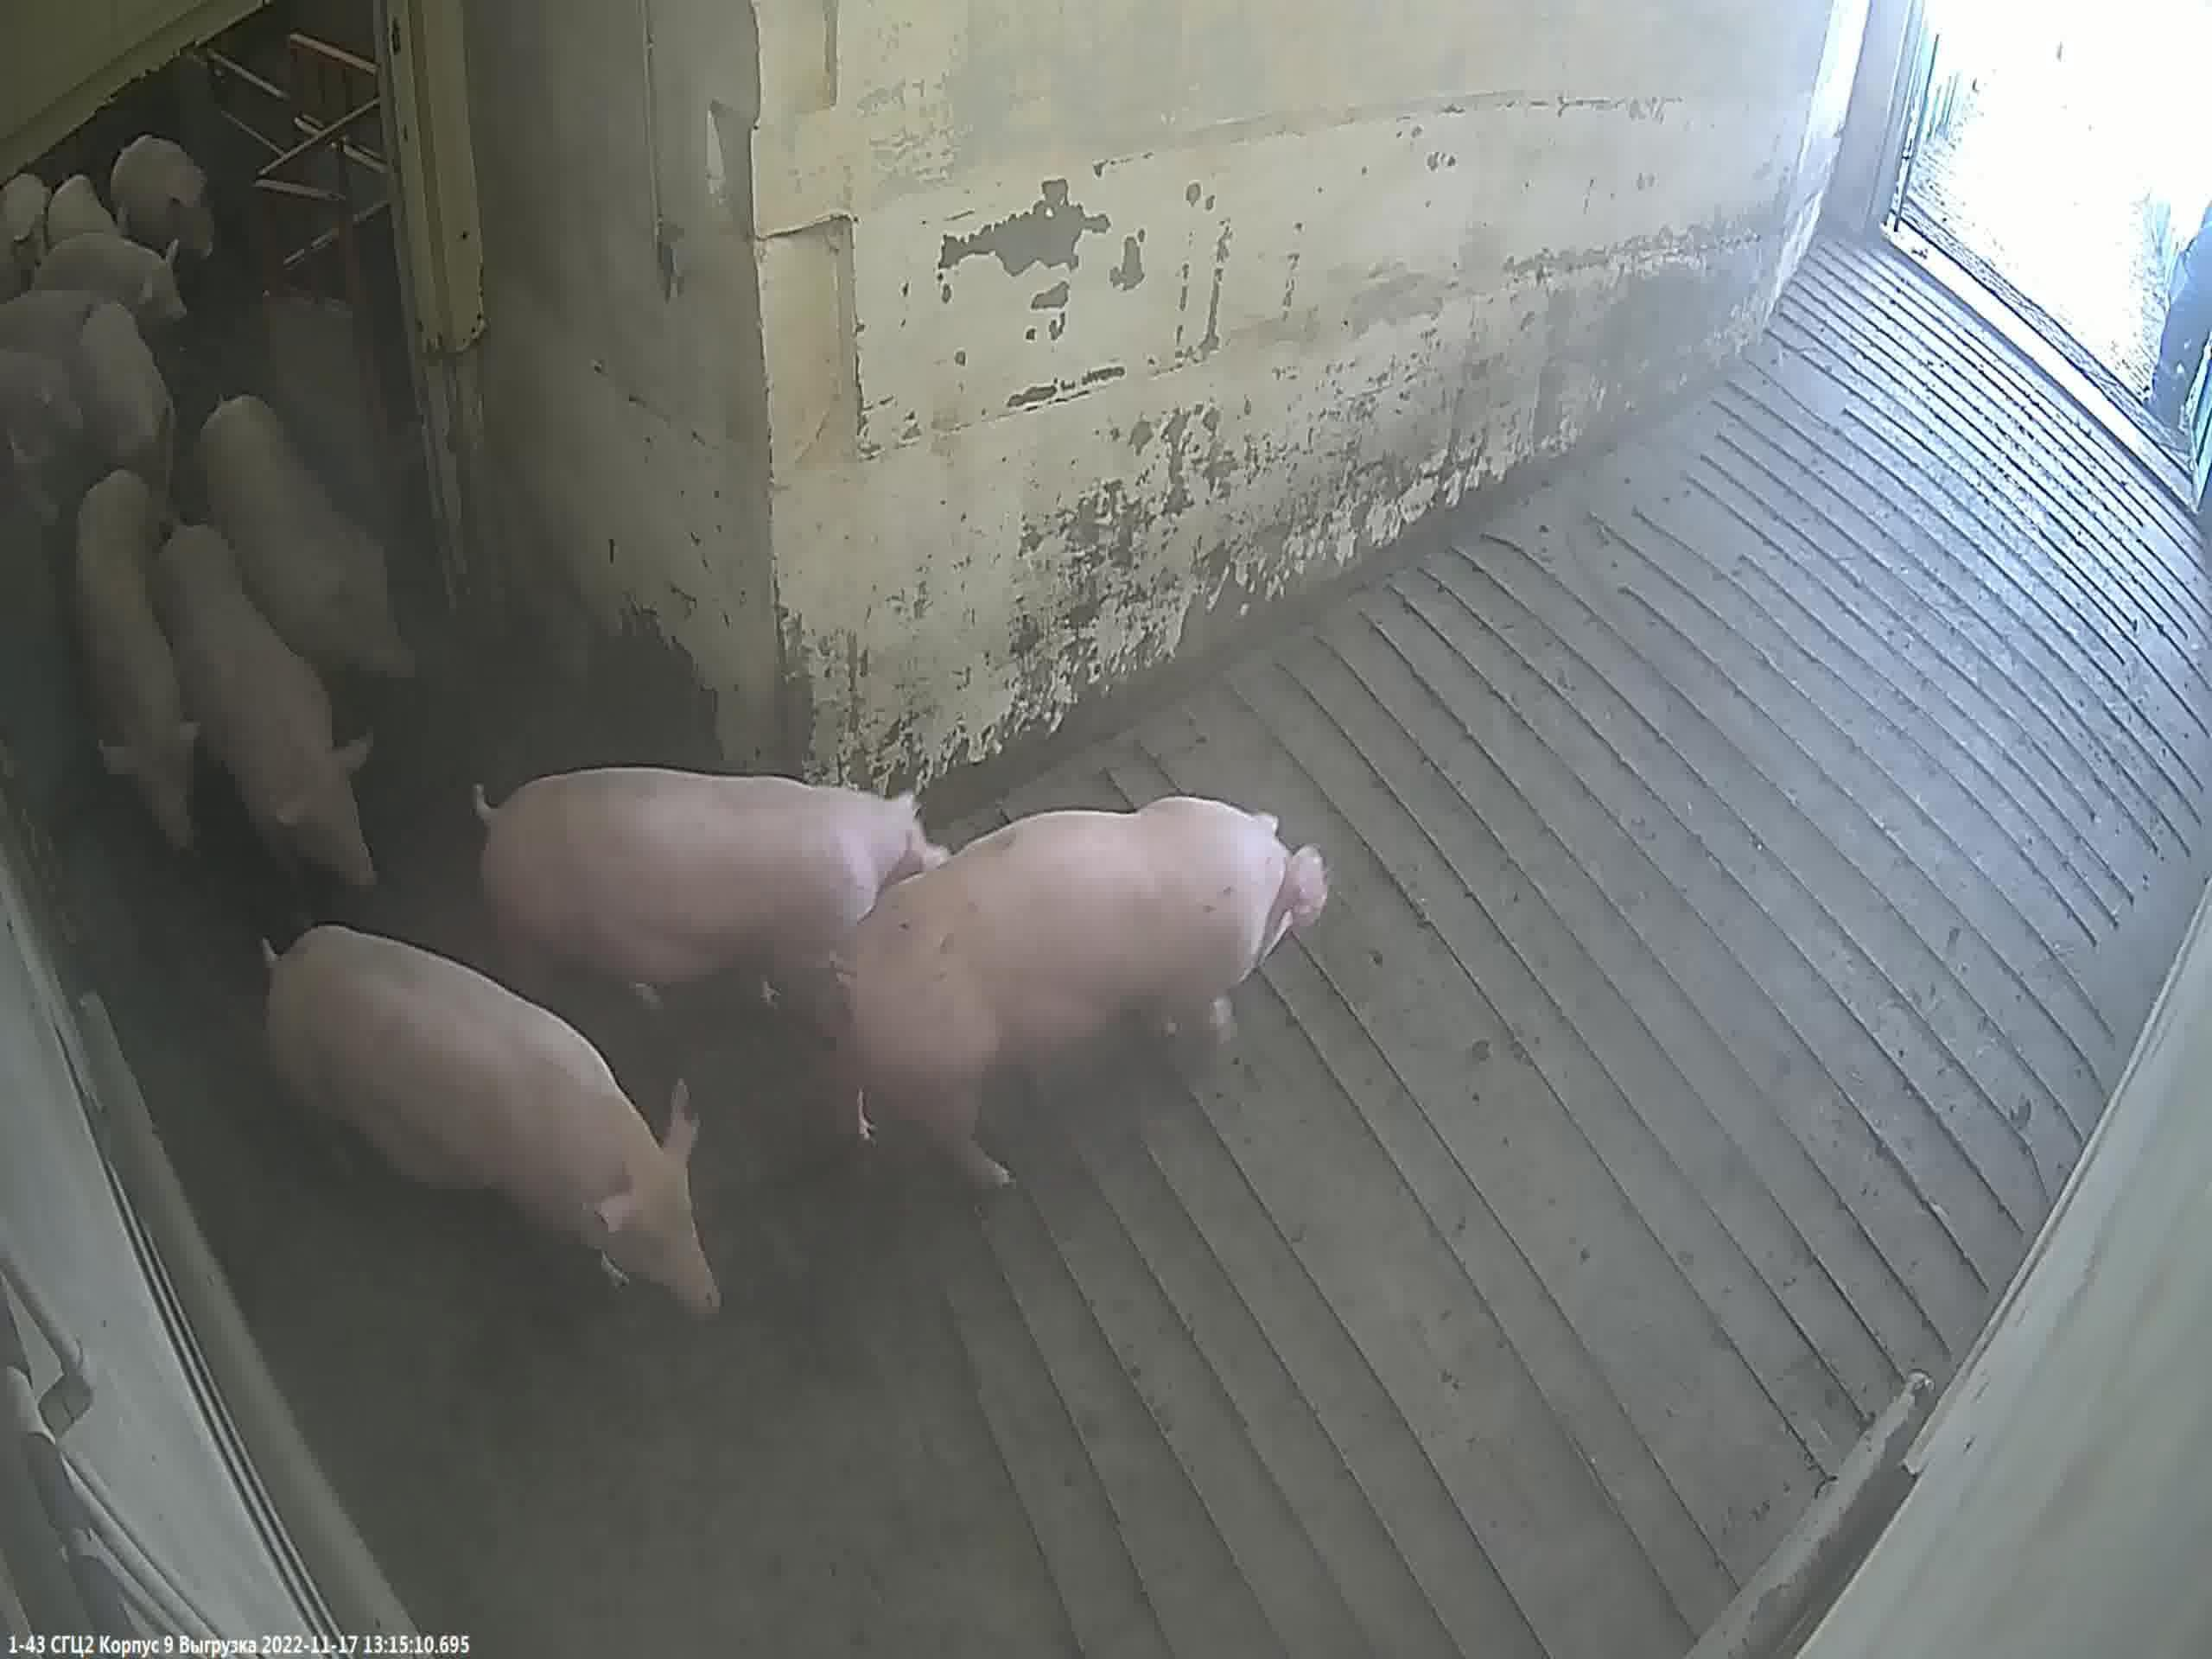Pigs: (849, 800, 1338, 1189), (260, 926, 721, 1325), (483, 767, 942, 1062), (162, 518, 374, 890), (200, 396, 415, 714), (69, 474, 205, 855), (30, 232, 186, 345), (78, 306, 172, 478), (110, 138, 216, 270)
